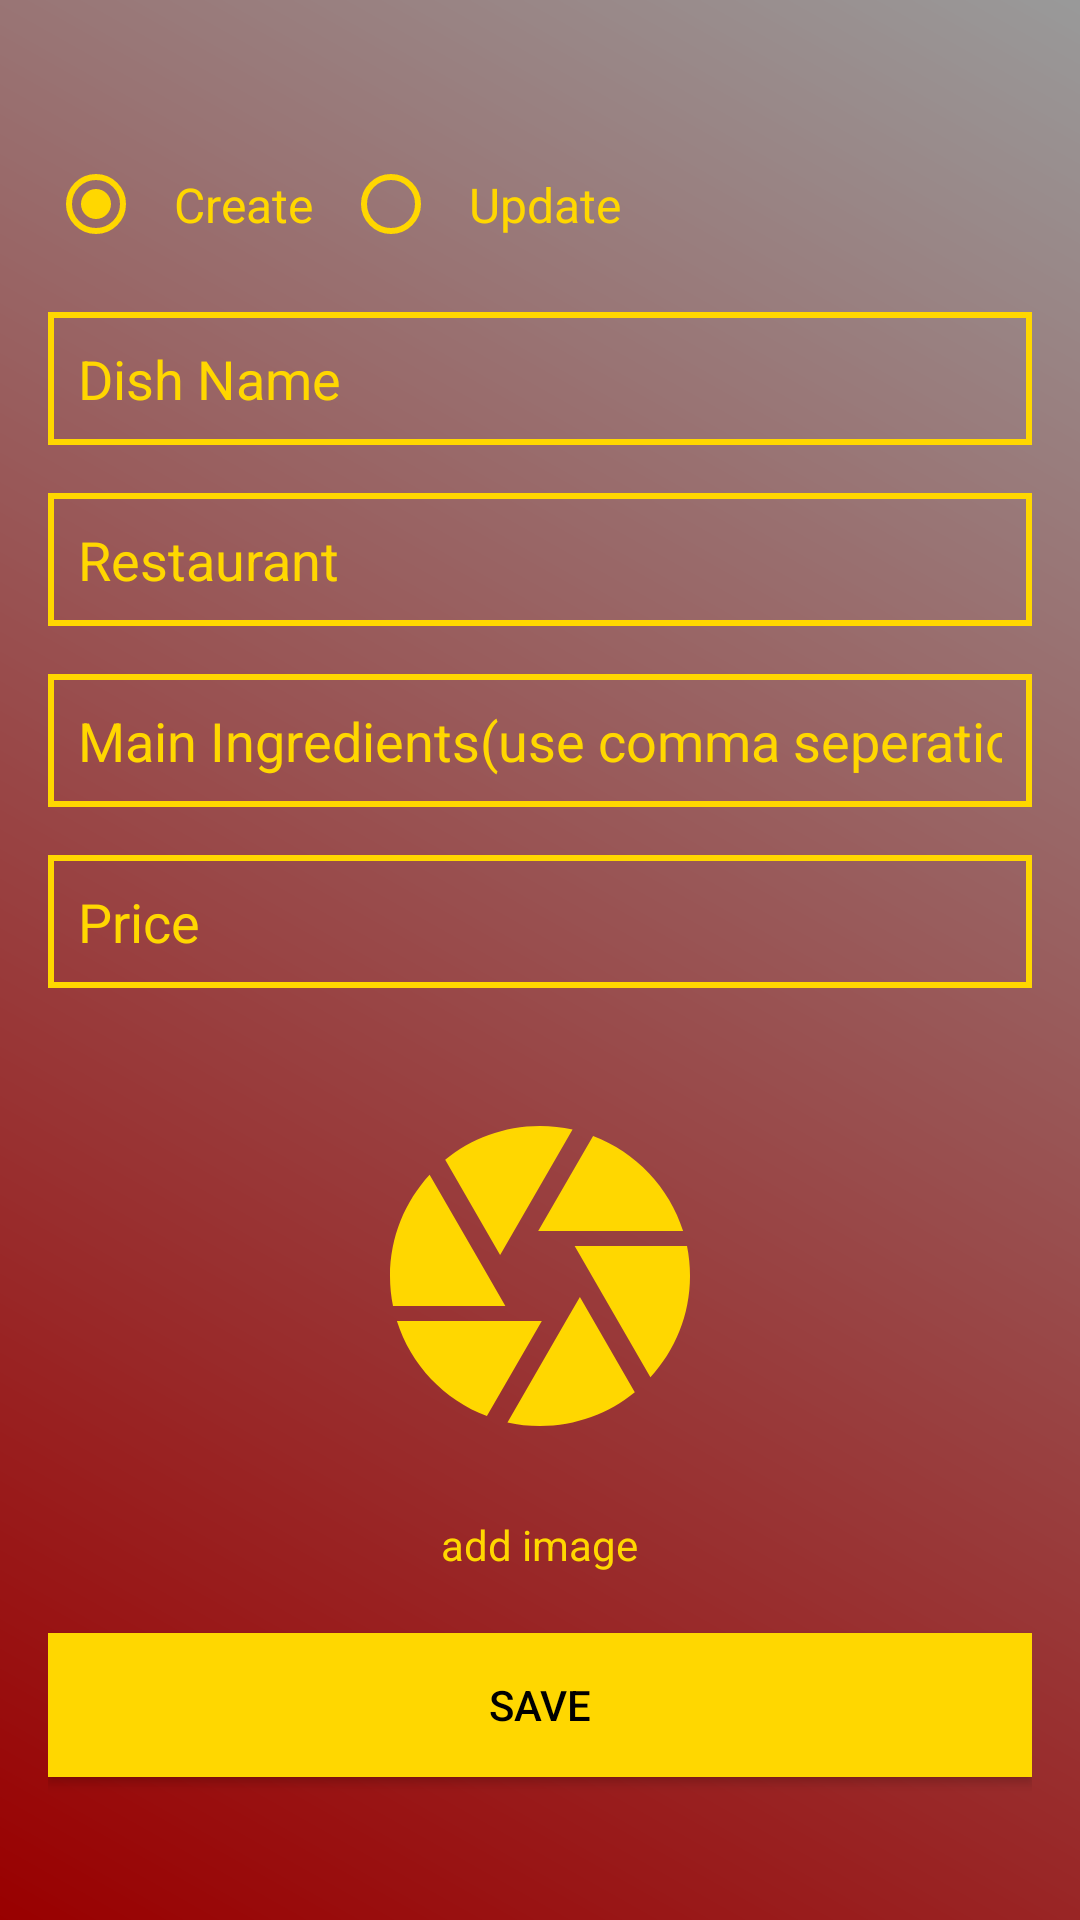

Icons on this 1080px×1920px Android screen, each with its box as box=[x1, y1, x2, y2]:
camera: box=[390, 1126, 690, 1426]
